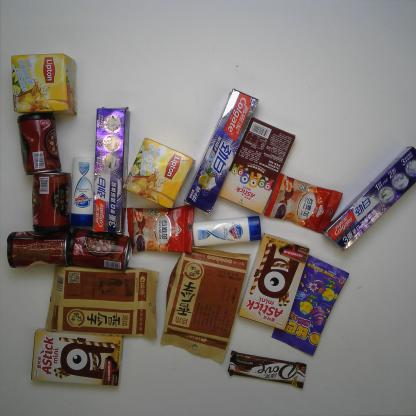Candy: (270, 254, 350, 356)
Canned Food: (16, 110, 62, 176), (66, 227, 132, 272), (6, 231, 72, 269), (32, 172, 72, 233)
Chocolate: (228, 350, 307, 390)
Dessert: (218, 116, 296, 215), (238, 233, 310, 332), (30, 327, 124, 387)
Dried Food: (160, 246, 251, 364), (44, 262, 161, 340)
Instant Drink: (122, 137, 195, 210), (264, 172, 344, 236), (10, 53, 77, 116), (126, 204, 195, 254)
Personal Hygiene: (322, 145, 416, 252), (183, 88, 259, 215), (92, 106, 131, 234), (192, 215, 262, 247), (70, 156, 95, 227)
